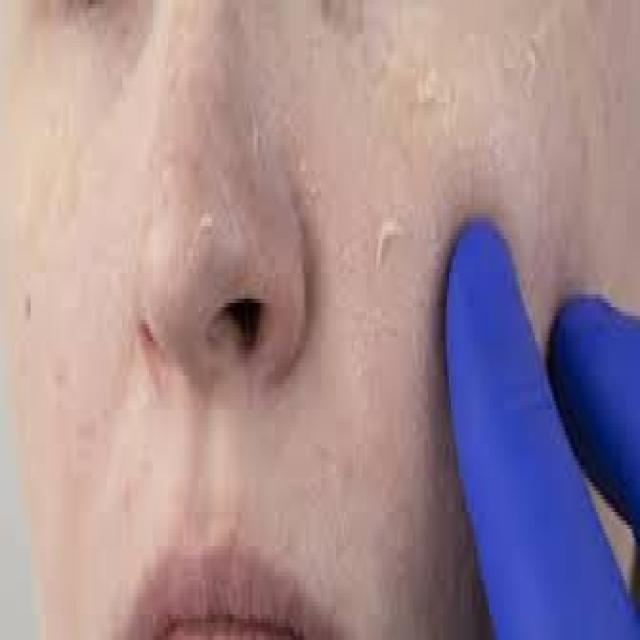flakiness: (347, 191, 410, 314)
